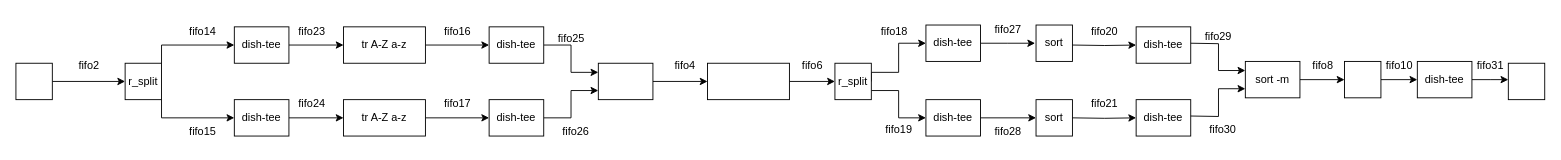
Image size: 1561x160. Some labels were removed from this diagram. Each missing label, with the centre of its shape:
cat: pixel 33 81
comm: pixel 1526 81
r_merge: pixel 625 81
tr -cs A-Za-z '\n': pixel 748 81
uniq: pixel 1362 79
